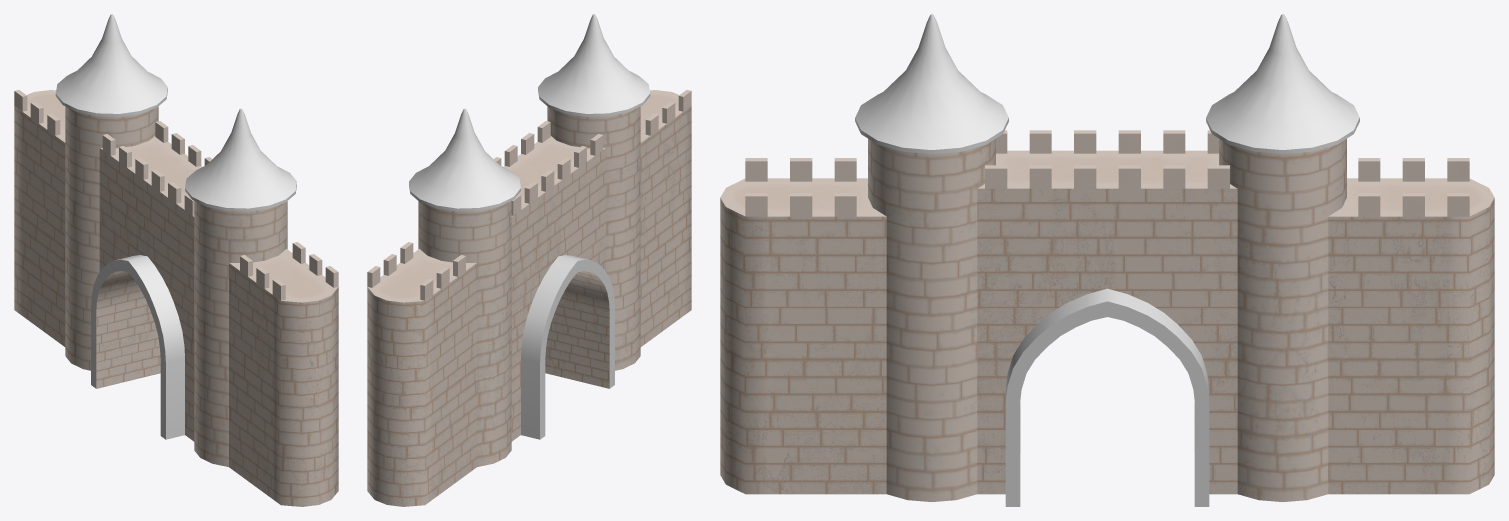
The model's file is Gate.fbx.
3 renders of one model, left to right at view 1: azimuth 30°, elevation 25°; view 2: azimuth 150°, elevation 25°; view 3: azimuth 270°, elevation 25°, orthographic. The views are drawn at different scales.
Parts seen in each view (by area): view 1: Gate; view 2: Gate; view 3: Gate.
Boxes of the visible parts, box(x1,y1,x2,y2) form: Gate: box(14, 14, 338, 506); Gate: box(367, 14, 691, 506); Gate: box(720, 14, 1494, 506).
Bounding box in the file's own units: 552 × 1824 × 2780.
2 materials, 1 textured.
